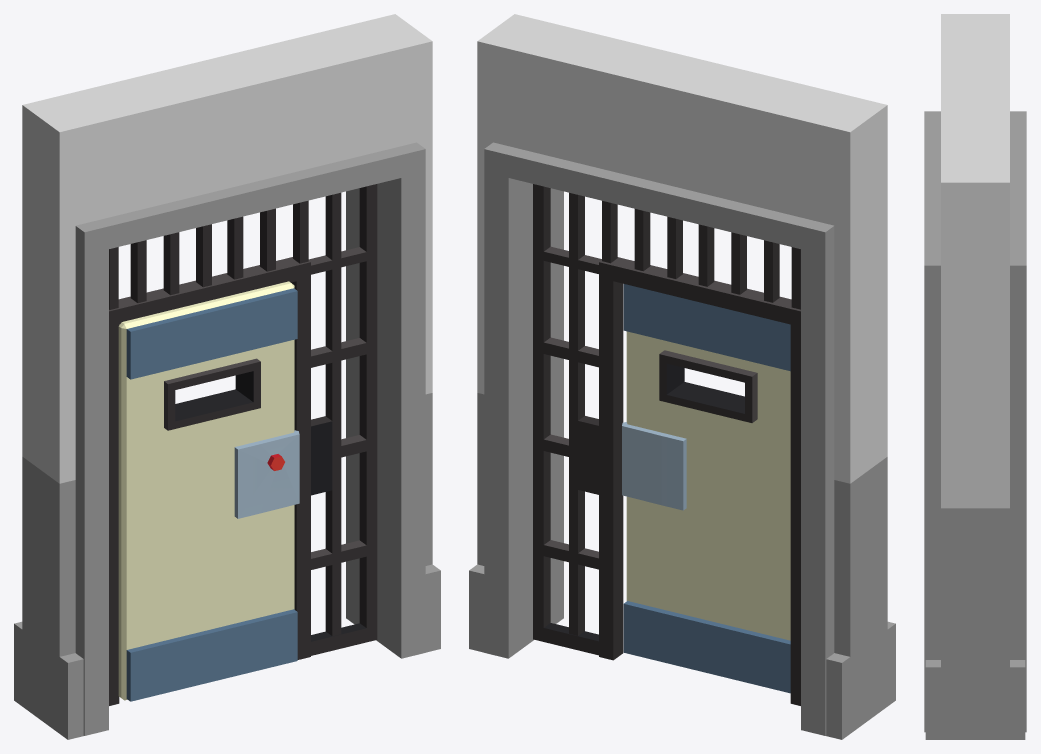
Rendered from wall1.fbx.
3 renders of one model, left to right at view 1: azimuth 30°, elevation 25°; view 2: azimuth 150°, elevation 25°; view 3: azimuth 270°, elevation 25°, orthographic. The views are drawn at different scales.
Visible parts, largest first — view 1: wall1, celldoor_wallroad; view 2: wall1, celldoor_wallroad; view 3: wall1.
Boxes of the visible parts, x1,y1,x2,y2 form: wall1: (14,14,440,739); celldoor_wallroad: (118,281,299,701); wall1: (469,14,895,739); celldoor_wallroad: (622,284,790,693); wall1: (924,14,1026,739).
Bounding box in the file's own units: 104 × 160 × 26.73.
